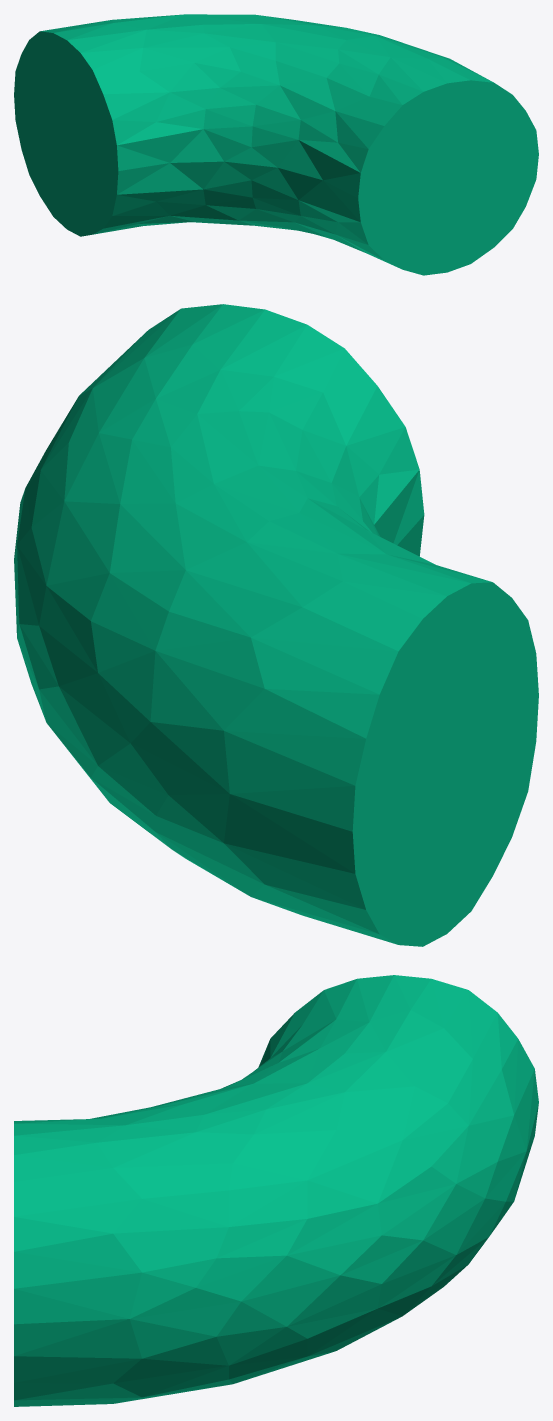
The picture shows the model from 3 angles, top to bottom: view 1: azimuth 30°, elevation 25°; view 2: azimuth 150°, elevation 25°; view 3: azimuth 270°, elevation 25°; orthographic projection. The views are drawn at different scales.
Size of the model in its own units: 0.2092 by 0.1136 by 0.2092.
